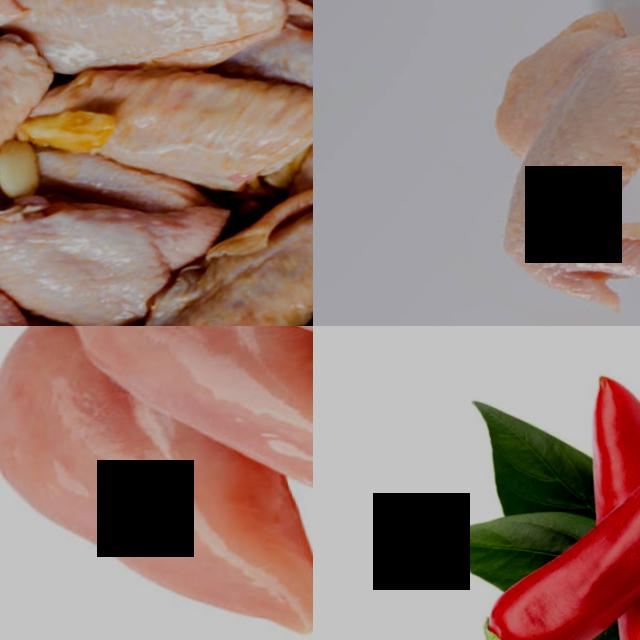chicken breast: (0, 326, 168, 622), (16, 326, 267, 453)
chicken wing: (428, 0, 640, 326)
chilli: (429, 361, 640, 640)
